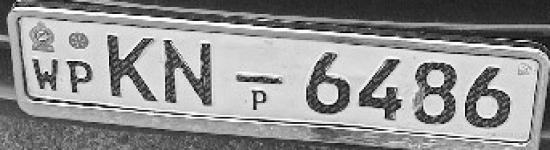-: (229, 66, 290, 89)
4: (356, 51, 409, 126)
6: (296, 46, 352, 120), (461, 59, 516, 130)
8: (409, 57, 462, 129)
K: (102, 32, 160, 103)
N: (159, 36, 218, 110)
P: (61, 56, 97, 98)
W: (25, 53, 62, 96)
